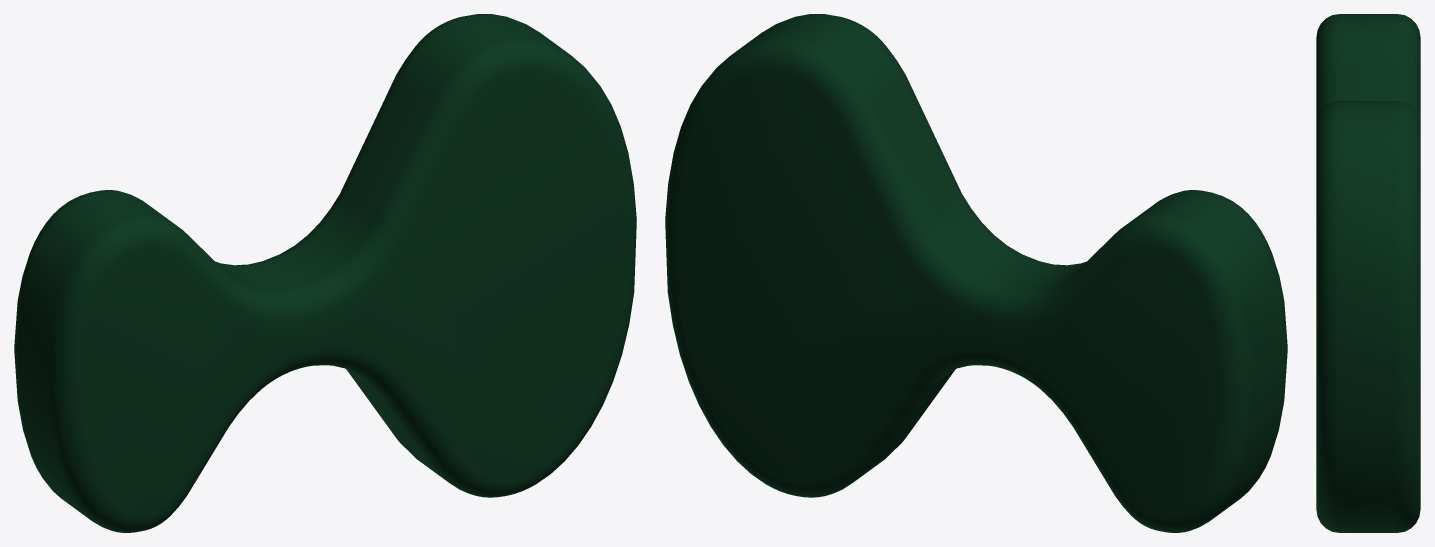
File: hyperliquid-mesh-only.glb
The picture shows the model from 3 angles, left to right: view 1: azimuth 30°, elevation 25°; view 2: azimuth 150°, elevation 25°; view 3: azimuth 270°, elevation 25°; orthographic projection. The views are drawn at different scales.
Parts seen in each view (by area): view 1: Curve; view 2: Curve; view 3: Curve.
Part boxes in pixels (x1,y1,x2,y2): Curve: (14,14,636,532); Curve: (665,14,1287,532); Curve: (1316,14,1420,532).
Size of the model in its own units: 0.0406 by 0.0301 by 0.00685.
